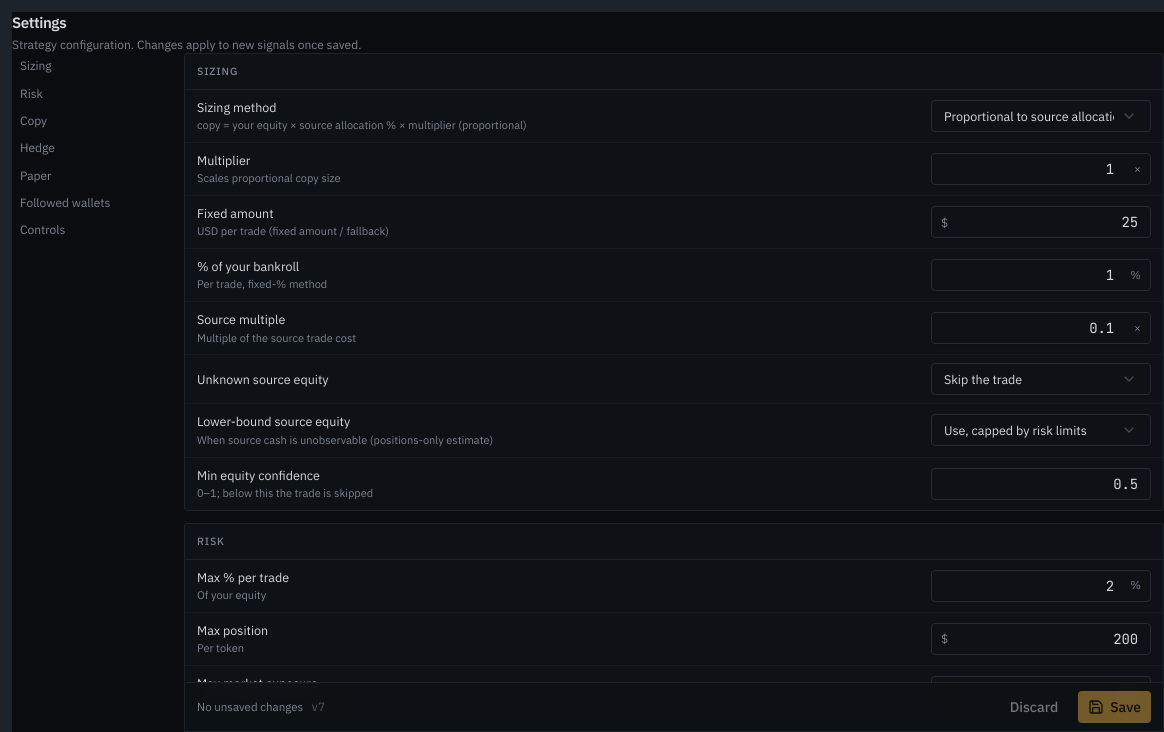
Test case: SettingsPage form › prompts to reload on a 409 version conflict
The width and height of the screenshot is (1164, 732).
Clear the field labelled "Max % per trade" at (1041, 586), box [931,570,1151,602]
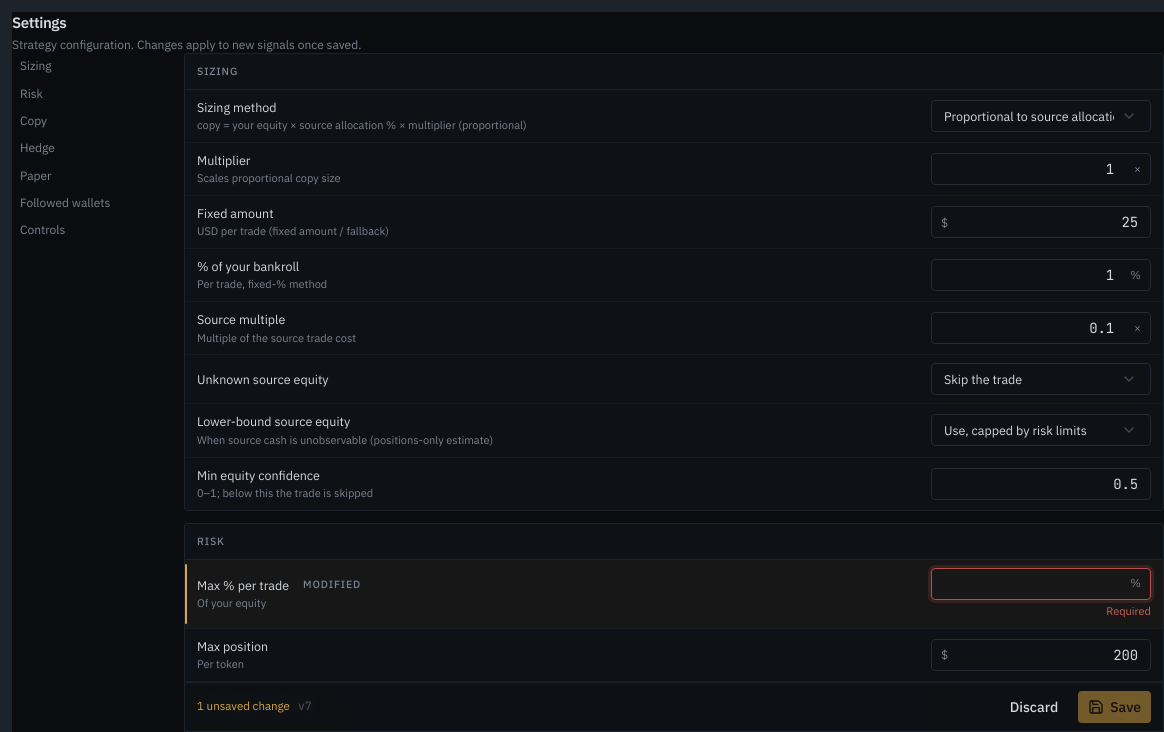
Type "3" into the field labelled "Max % per trade modified".
click(1041, 584); type("3")  # box [931,568,1151,600]
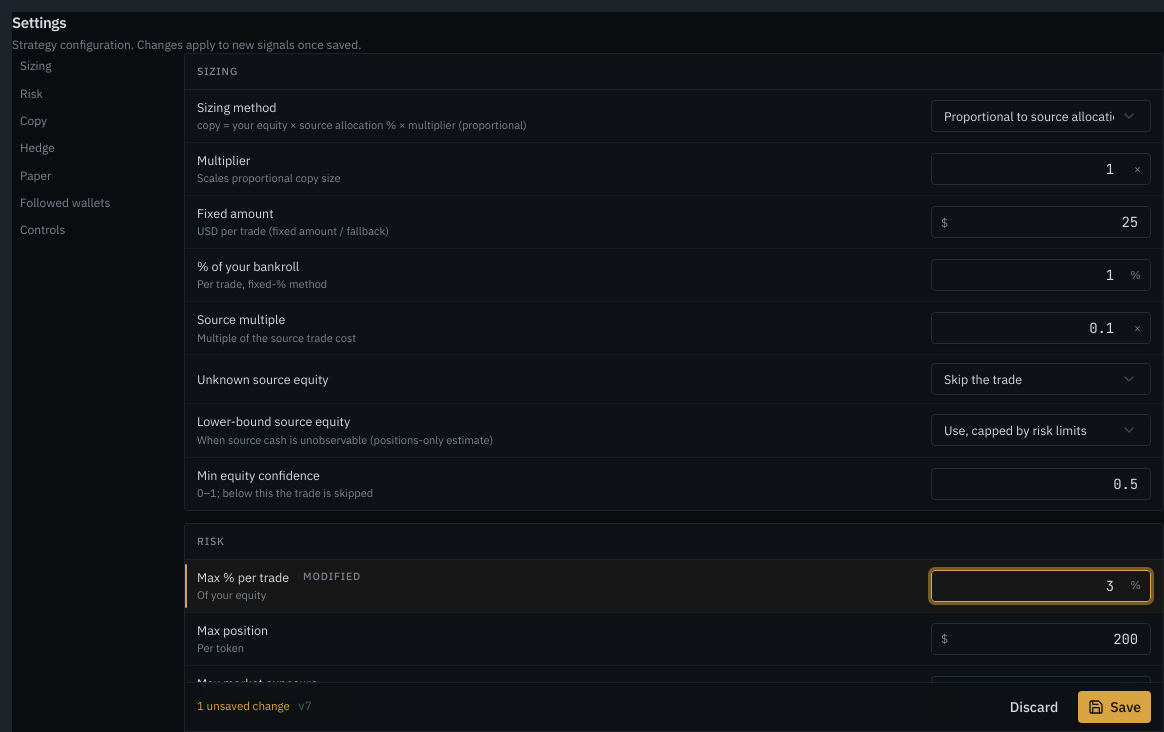
Click the button with test id "settings-save".
click(1115, 707)  # box [1078,691,1151,723]
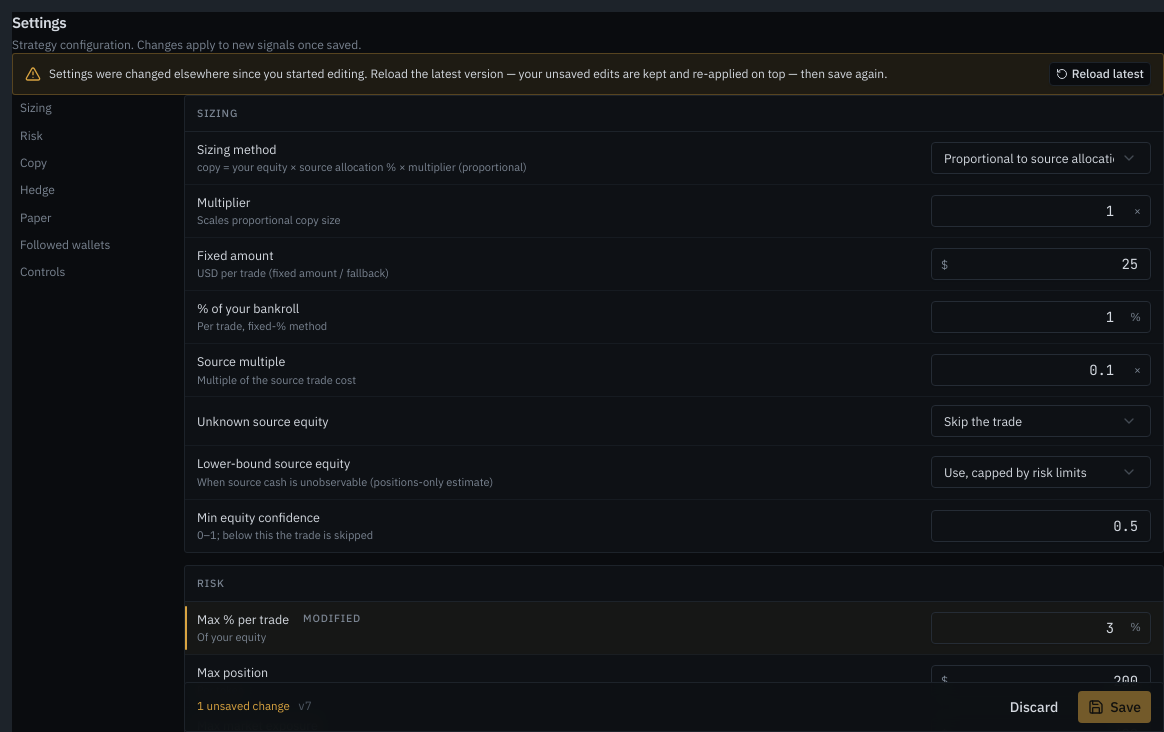
expect the text "Settings were changed elsewhere" is shown: met, box [49,66,887,81]
expect the button "Reload latest" is shown: met, box [1049,62,1151,86]
